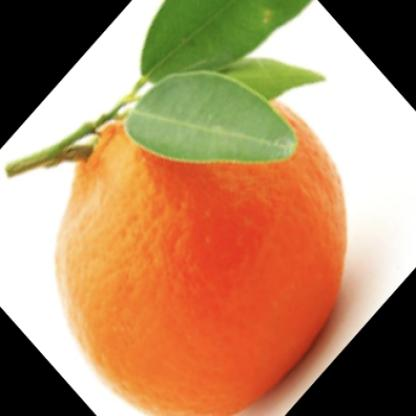fresh: (54, 58, 346, 416)
